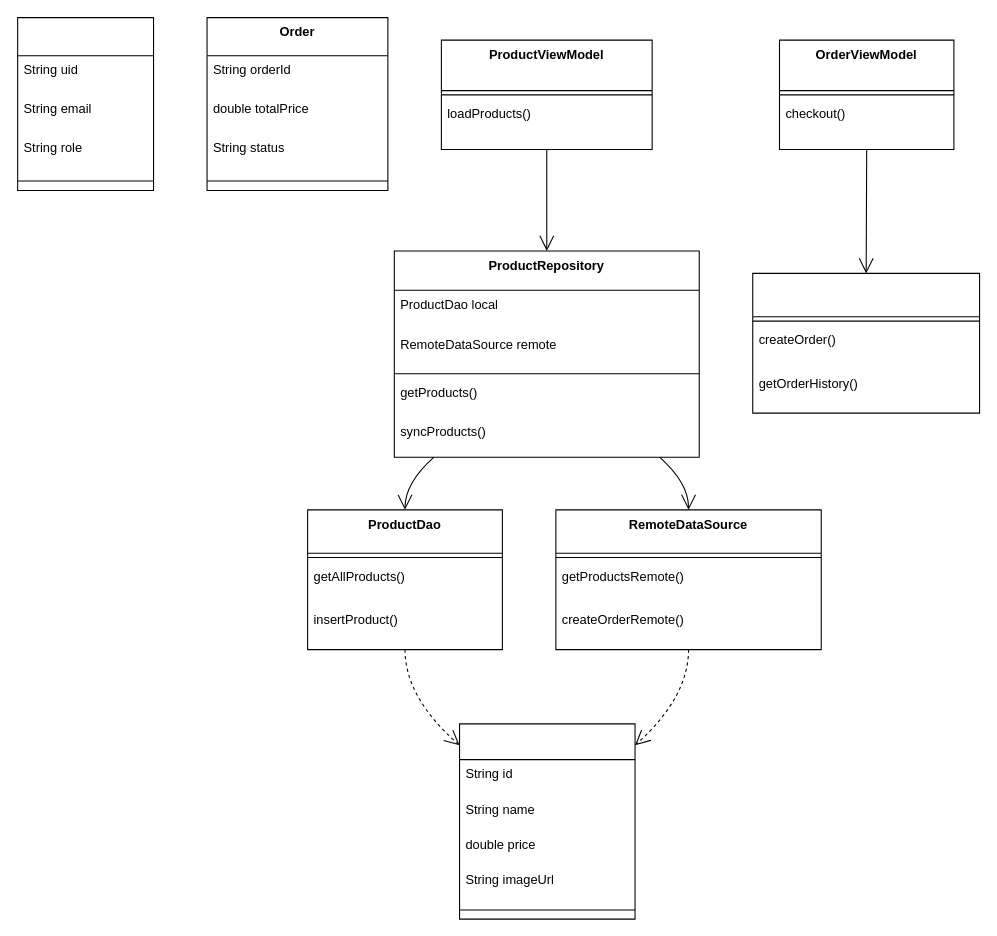
The diagram is 997 pixels wide and 936 high, and some of its shapes have lost their labels. Here are the shapes that lost their labels. From the top down, the box of each, then its label:
(17, 17, 154, 191): User
(752, 272, 980, 413): OrderRepository
(458, 723, 635, 919): Product
